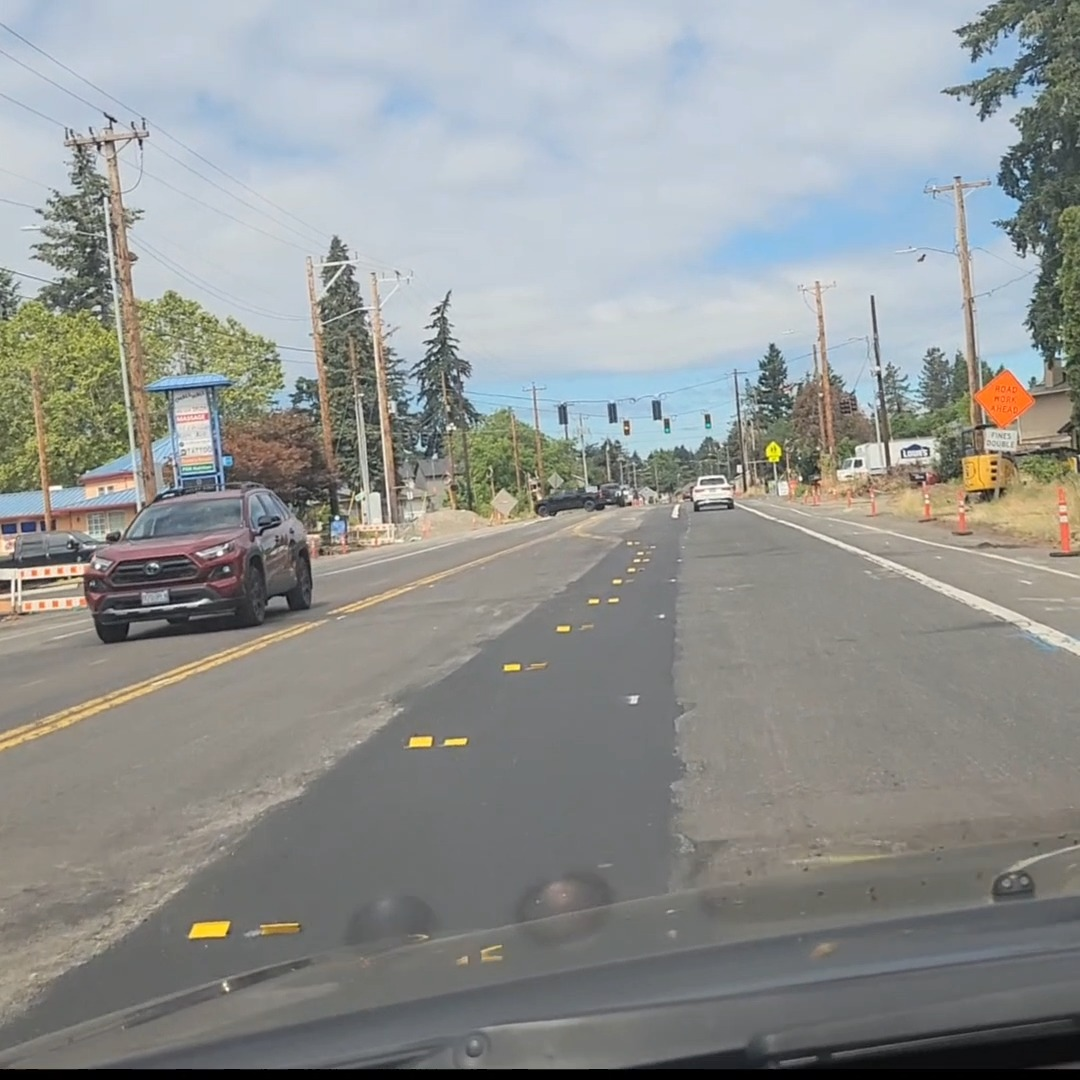car: (82, 480, 313, 640), (2, 529, 108, 574), (535, 484, 625, 515), (690, 474, 735, 511)
crosswalk-sign: (765, 441, 782, 463)
delineator: (1046, 483, 1078, 556), (951, 486, 974, 535), (917, 482, 935, 521), (867, 485, 879, 516), (845, 485, 854, 510), (803, 485, 813, 504), (811, 484, 820, 505), (787, 481, 794, 500)
